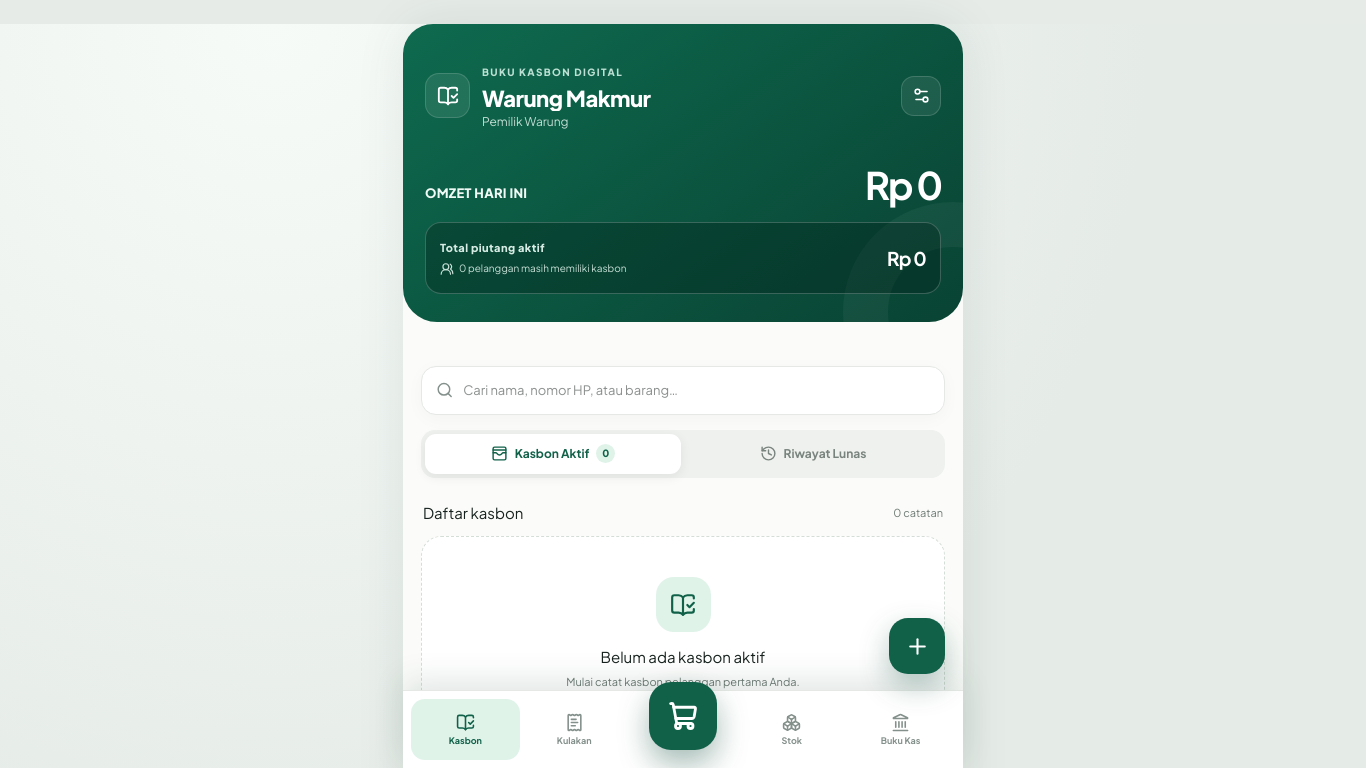
it: Warung app navigation › prefills a new debt from the quick cashier calculator
Expected: the field with placeholder "Cari nama, nomor HP, atau barang…" is shown, [453,381,930,400]
Click the button named "Buka kasir cepat" at (683, 716), box [649,682,717,750]
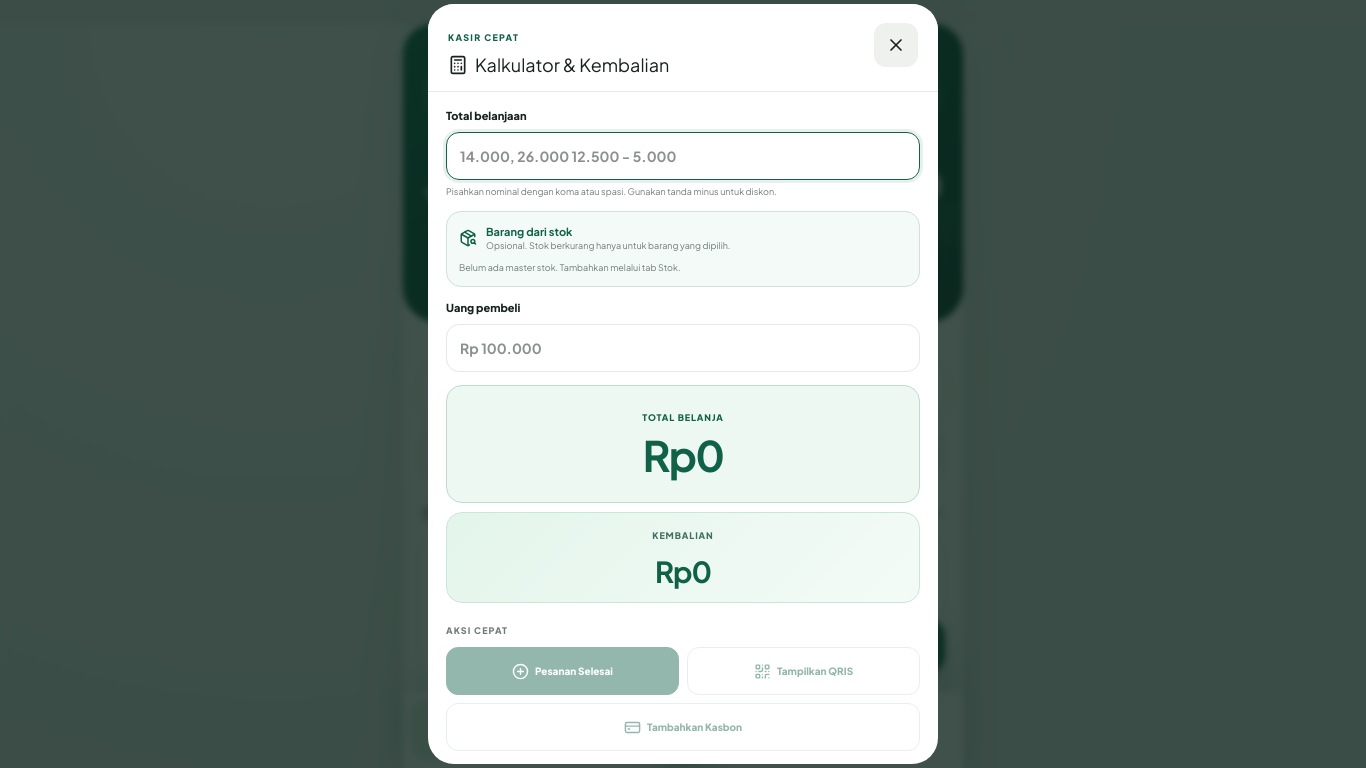
Type "14000+26000+12500" into the field labelled "Total belanjaan" at (683, 156), box [446,132,920,180]
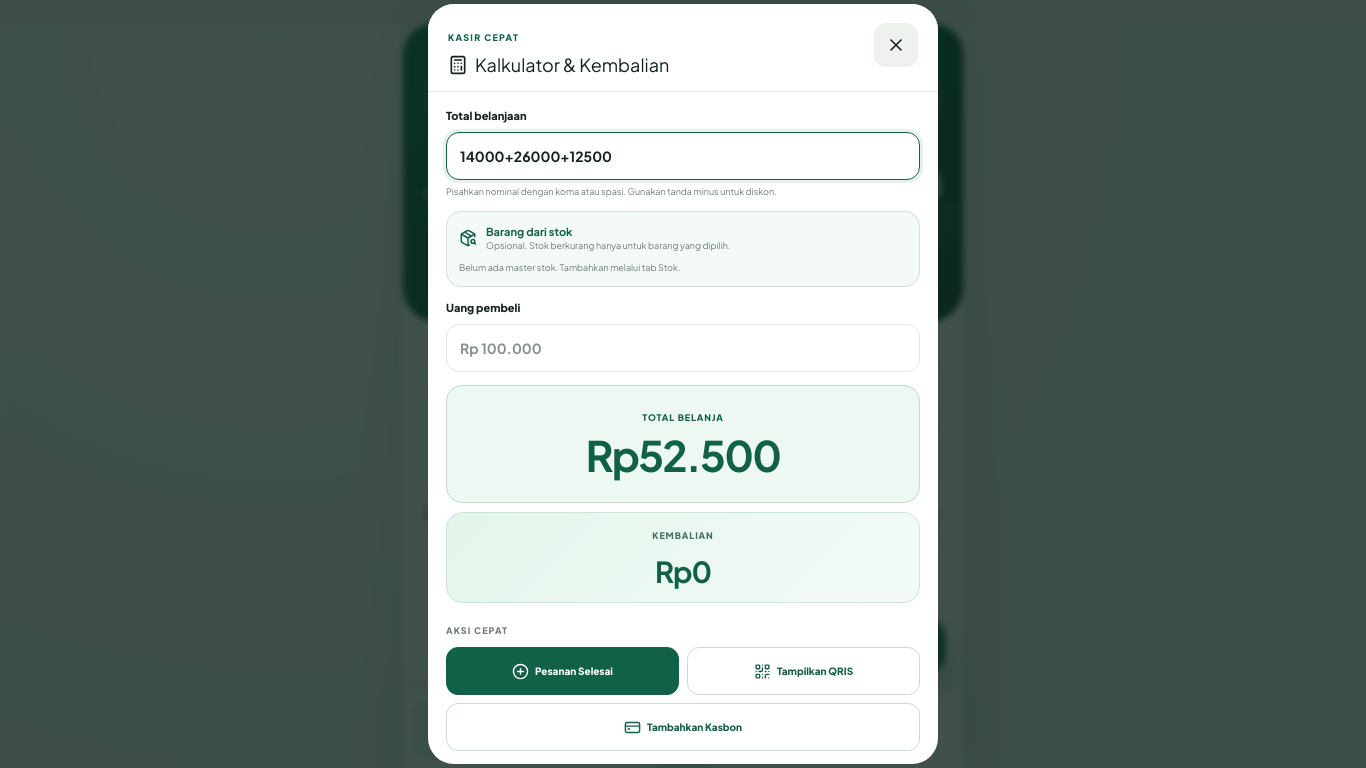
Expected: the text "Rp52.500" is shown, [586,434,780,476]
Click the button "Tambahkan Kasbon" at (683, 727), box [446,703,920,751]
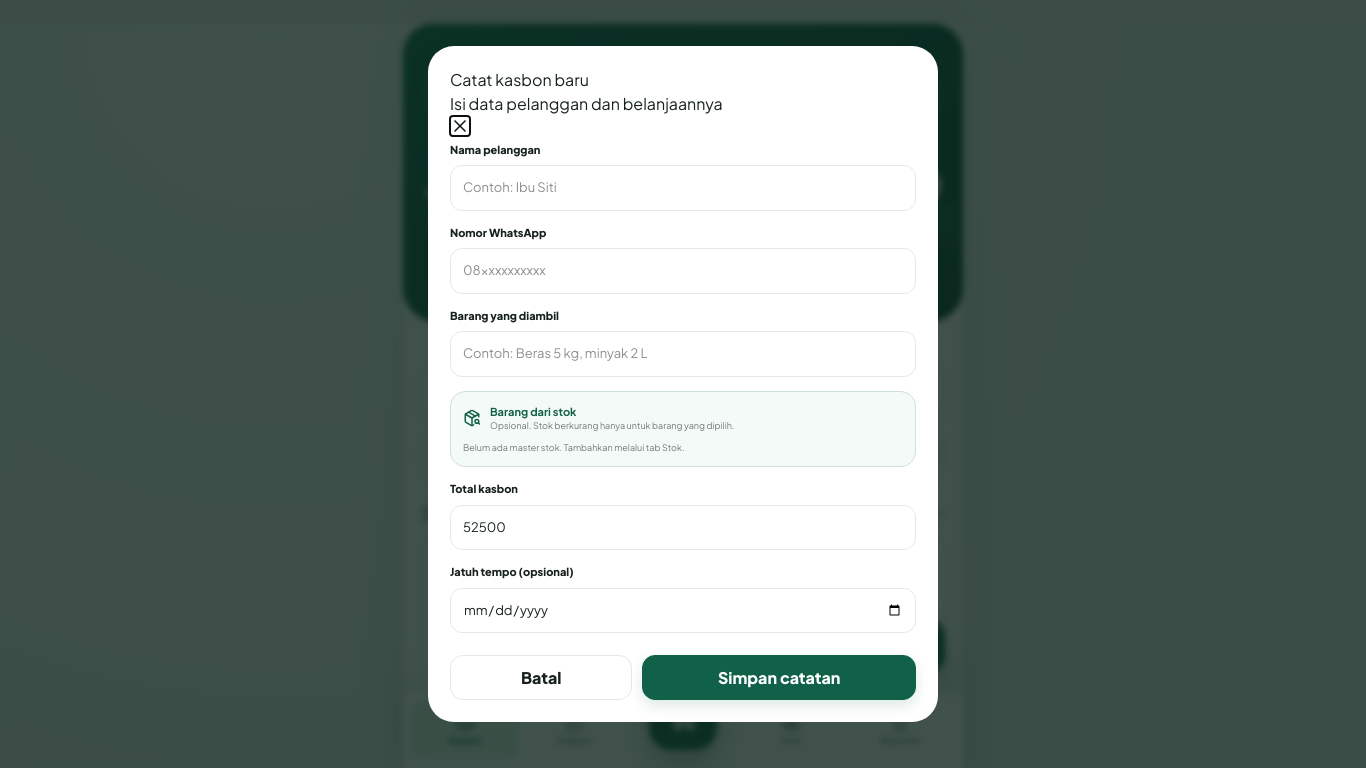
Expected: the number field labelled "Total kasbon" holds "52500", [450,505,916,550]
